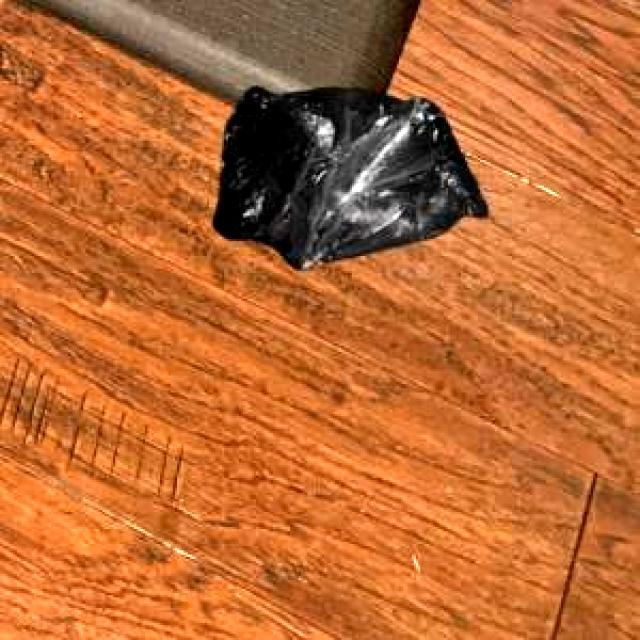Plastic_Bag: (210, 84, 485, 266)
